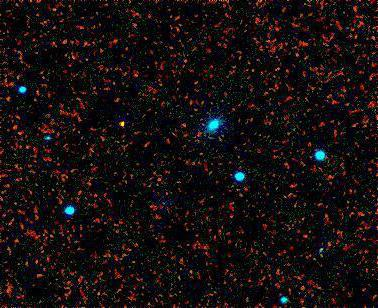star: (104, 112, 134, 142)
